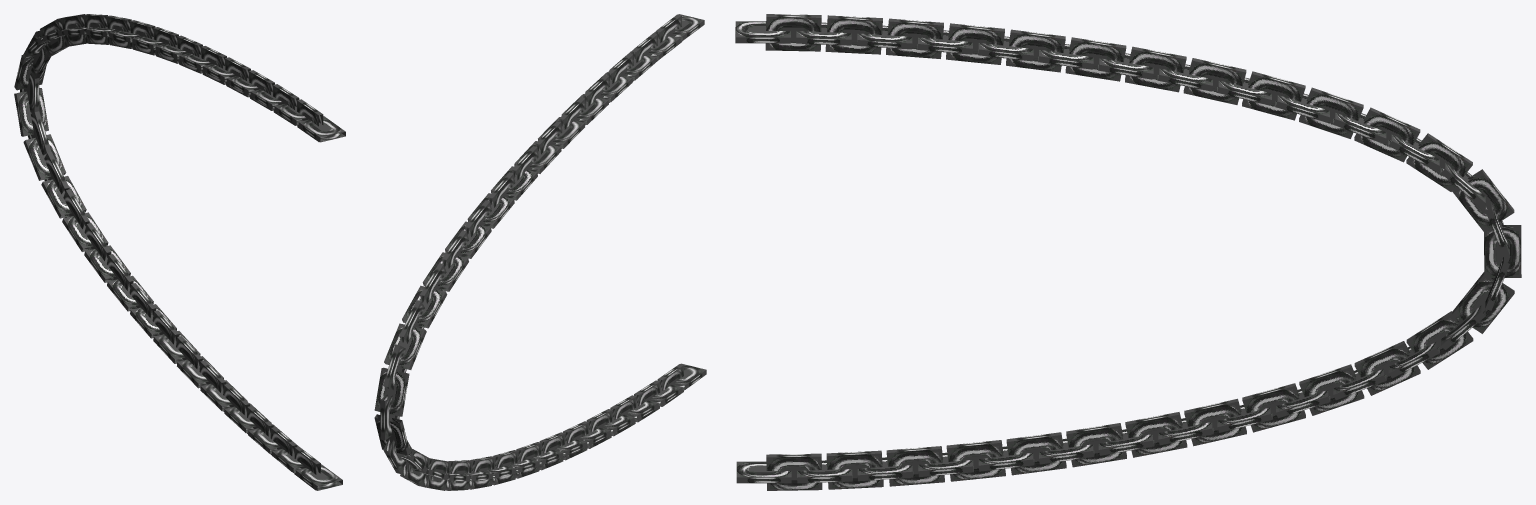
The model's file is INST_SWORDLIGHT_CHAINA.fbx.
3 renders of one model, left to right at view 1: azimuth 30°, elevation 25°; view 2: azimuth 150°, elevation 25°; view 3: azimuth 270°, elevation 25°, orthographic. The views are drawn at different scales.
Parts seen in each view (by area): view 1: INST_SWORDLIGHT_CHAINA; view 2: INST_SWORDLIGHT_CHAINA; view 3: INST_SWORDLIGHT_CHAINA.
Part boxes in pixels (x1,y1,x2,y2): INST_SWORDLIGHT_CHAINA: (14, 14, 345, 490); INST_SWORDLIGHT_CHAINA: (374, 14, 706, 490); INST_SWORDLIGHT_CHAINA: (735, 14, 1521, 490).
Bounding box in the file's own units: 1097 × 14112 × 21128.
1 material, 1 textured.
